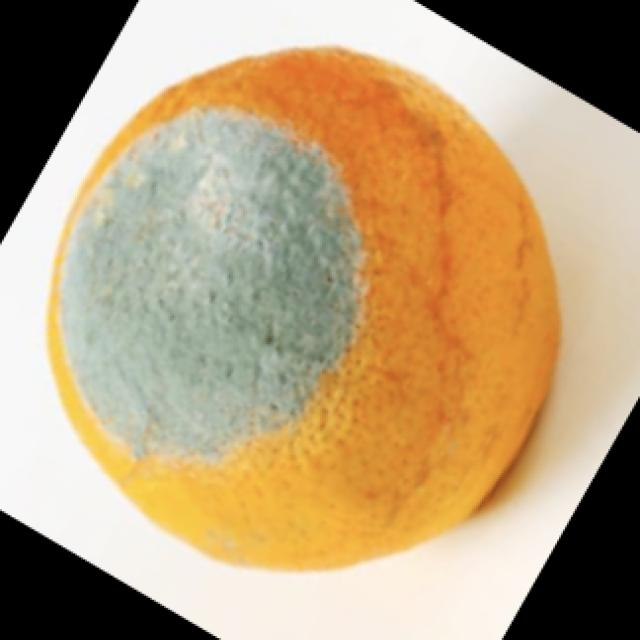sedikit_busuk: (41, 41, 561, 569)
